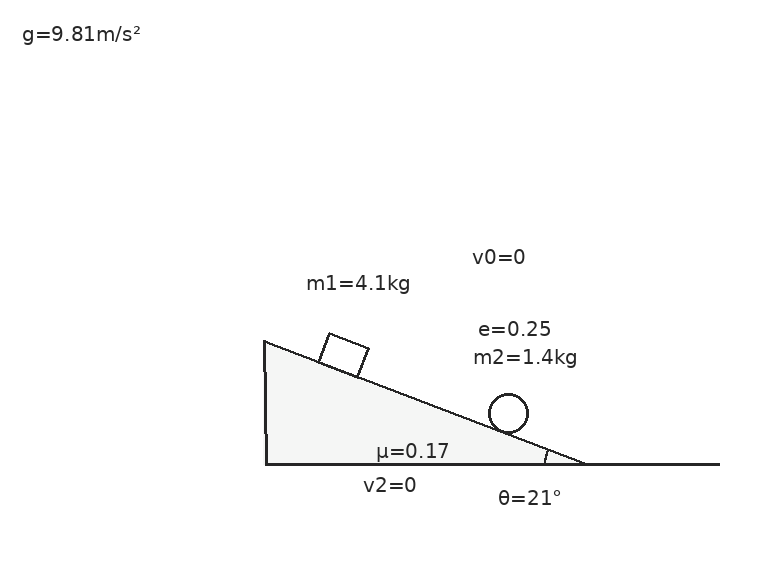ball: (486, 391, 530, 435)
block: (316, 331, 370, 379)
ramp: (262, 339, 587, 466)
